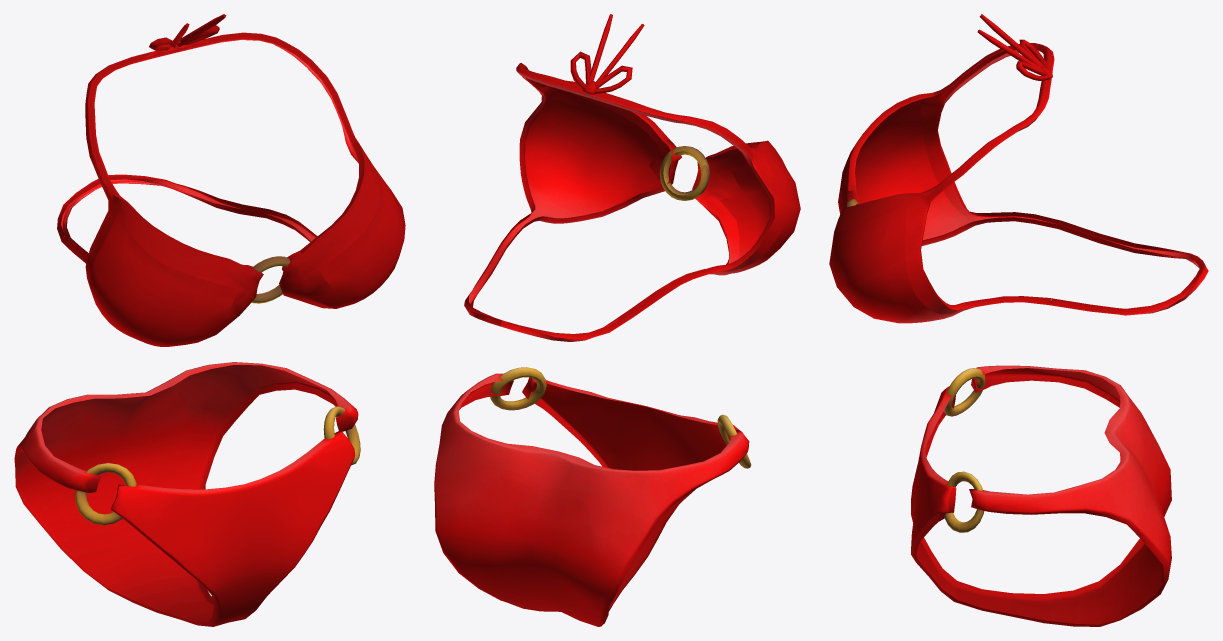
The model's file is bikiniclothes.fbx.
3 renders of one model, left to right at view 1: azimuth 30°, elevation 25°; view 2: azimuth 150°, elevation 25°; view 3: azimuth 270°, elevation 25°, orthographic. The views are drawn at different scales.
Visible parts, largest first — view 1: bikinipants, bikiniclothes; view 2: bikinipants, bikiniclothes; view 3: bikiniclothes, bikinipants.
Boxes of the visible parts, x1,y1,x2,y2 form: bikinipants: (14, 362, 360, 626); bikiniclothes: (57, 14, 405, 346); bikinipants: (434, 367, 751, 626); bikiniclothes: (464, 14, 800, 341); bikiniclothes: (829, 14, 1208, 323); bikinipants: (911, 365, 1171, 626).
Bounding box in the file's own units: 28.24 × 54.73 × 32.07.
1 material, 1 textured.
